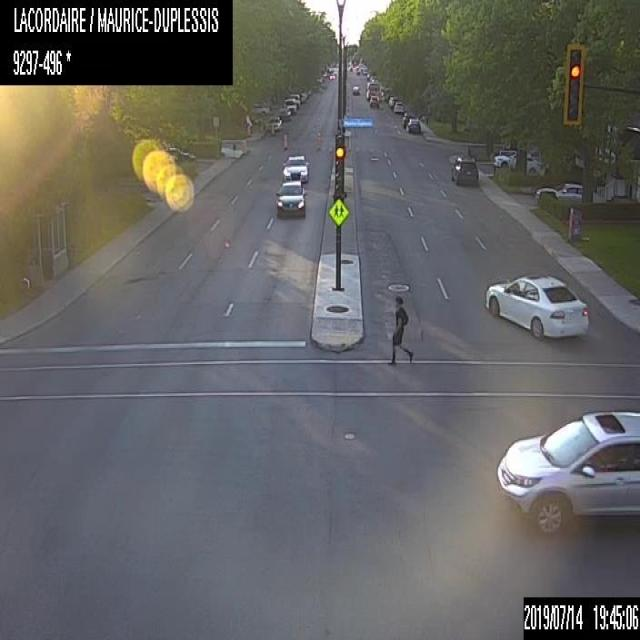bus: (365, 81, 379, 98)
construction: (282, 132, 287, 151), (316, 131, 321, 150), (240, 138, 245, 155), (245, 122, 250, 138), (270, 122, 274, 136)
pedestrian: (388, 296, 414, 364)
vehicle: (495, 409, 639, 536), (484, 274, 588, 342), (533, 180, 600, 204), (274, 178, 306, 217), (492, 149, 541, 173), (449, 156, 478, 184), (282, 154, 308, 180), (164, 145, 190, 162), (405, 116, 421, 134), (402, 112, 416, 128), (283, 98, 297, 114), (278, 106, 291, 122), (268, 115, 281, 131), (250, 103, 268, 114), (393, 100, 405, 112), (388, 96, 400, 107), (290, 94, 300, 106), (350, 84, 360, 95), (368, 95, 378, 106), (299, 92, 306, 103), (328, 72, 334, 78)
